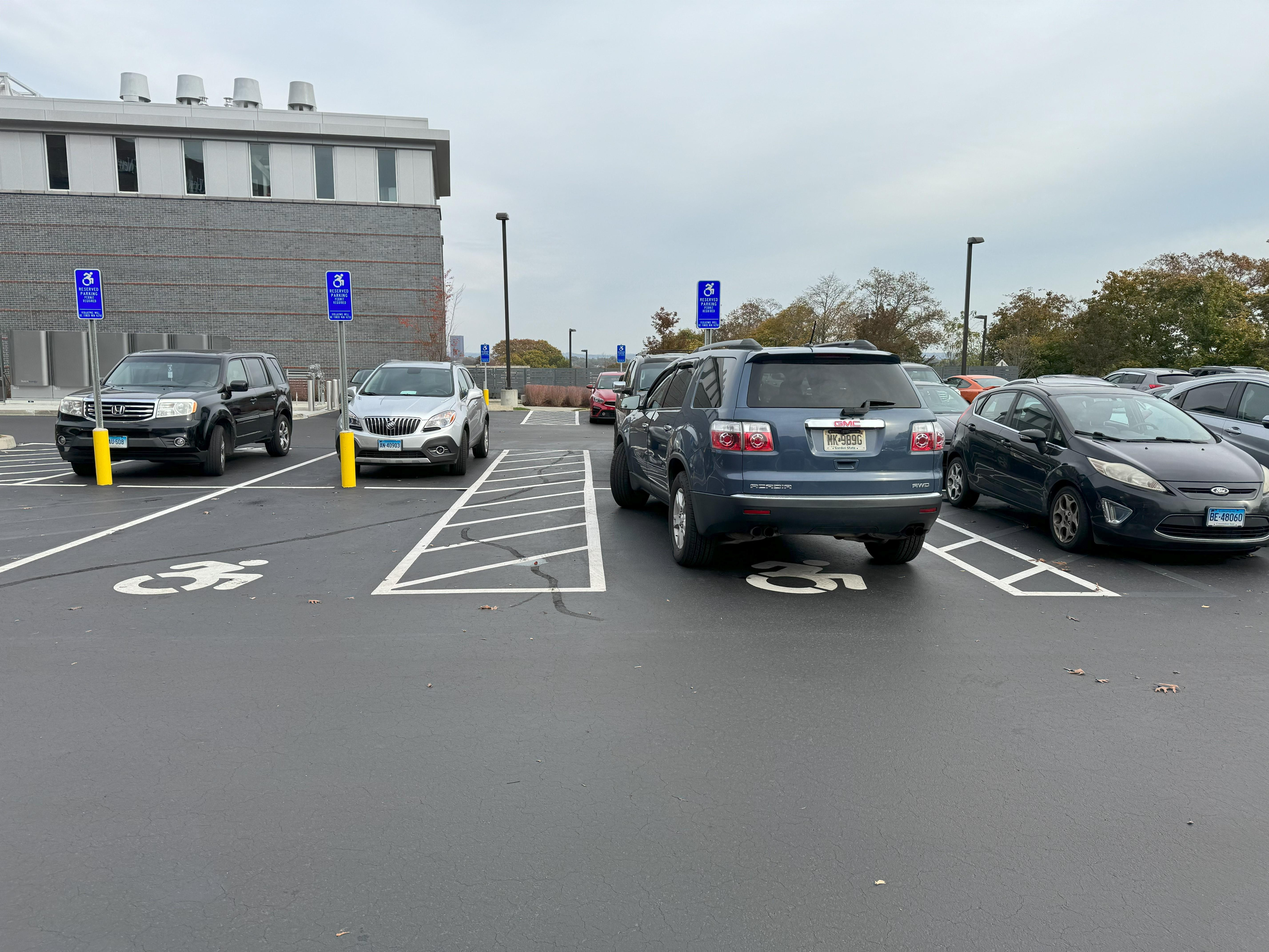empty: (92, 509, 397, 627)
occupied: (600, 336, 967, 604), (989, 354, 1266, 570), (16, 298, 285, 465), (303, 349, 509, 467)
